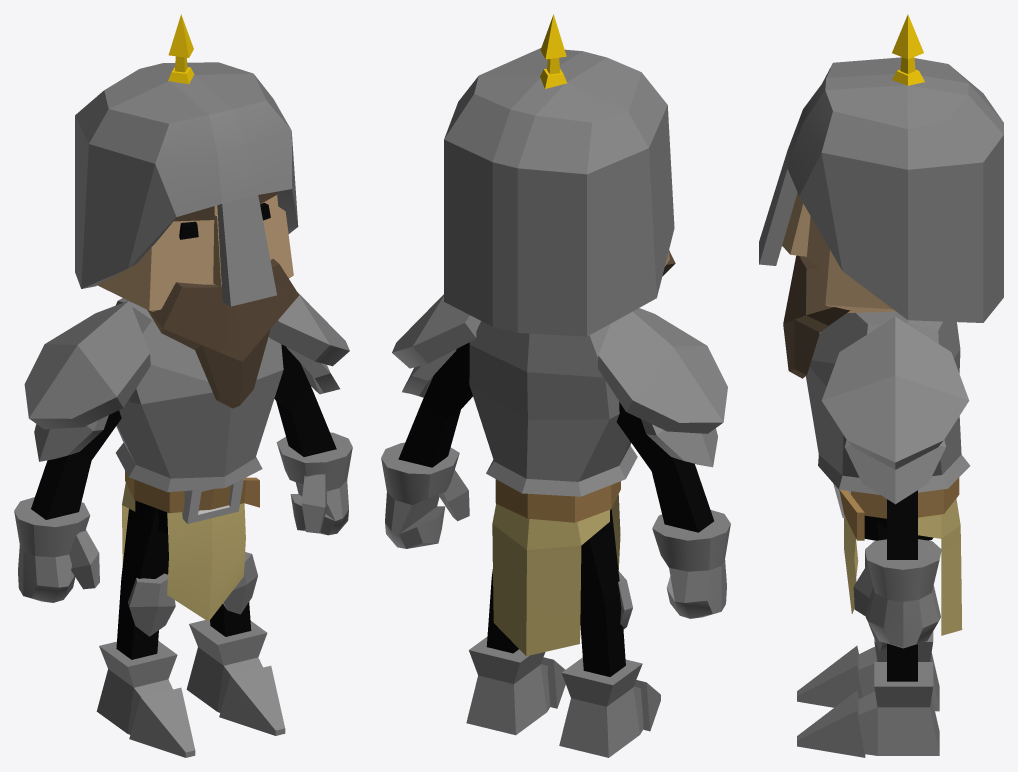
3 renders of one model, left to right at view 1: azimuth 30°, elevation 25°; view 2: azimuth 150°, elevation 25°; view 3: azimuth 270°, elevation 25°, orthographic. The views are drawn at different scales.
Parts seen in each view (by area): view 1: Soldier_15; view 2: Soldier_15; view 3: Soldier_15.
Part boxes in pixels (left/top/right/bottom): Soldier_15: left=14, top=14, right=352, bottom=757; Soldier_15: left=381, top=14, right=730, bottom=757; Soldier_15: left=759, top=14, right=1003, bottom=757.
Bounding box in the file's own units: 0.9251 × 1.85 × 0.5809.
Materials: 8 (1 with a texture image).
